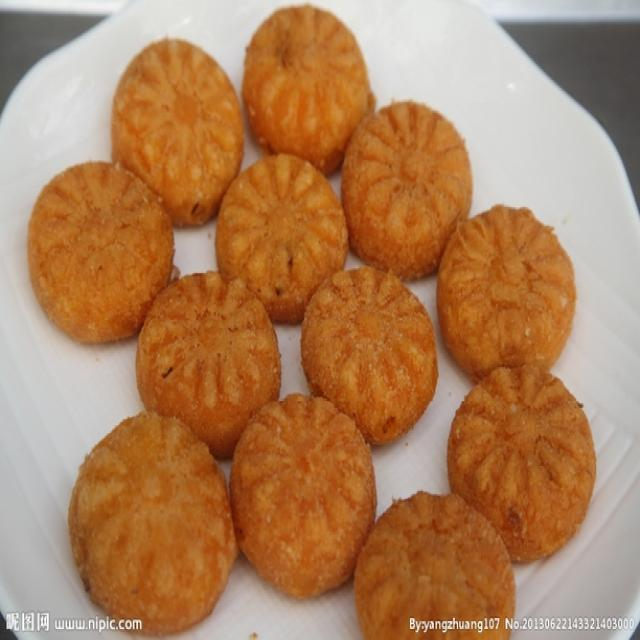炸货点心: (16, 17, 594, 629)
蛋糕甜品: (16, 17, 594, 629)
